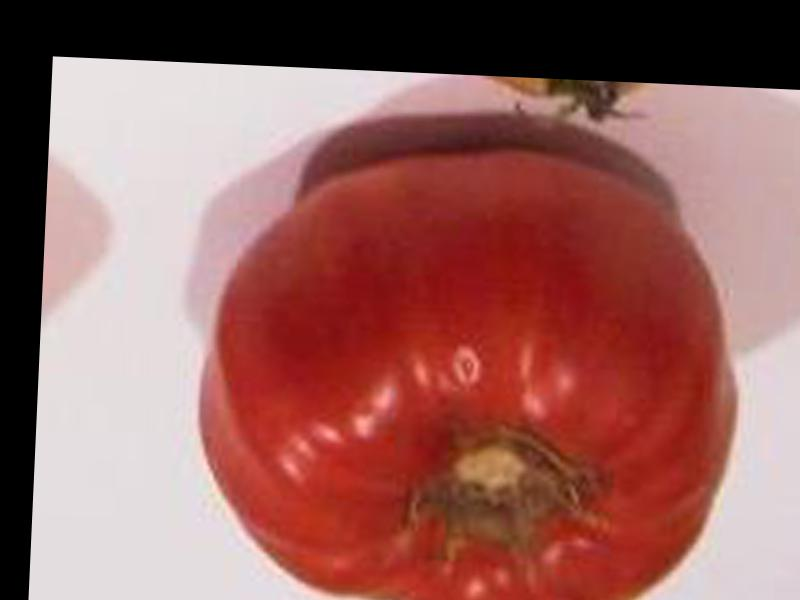Tomato: (195, 145, 744, 600)
